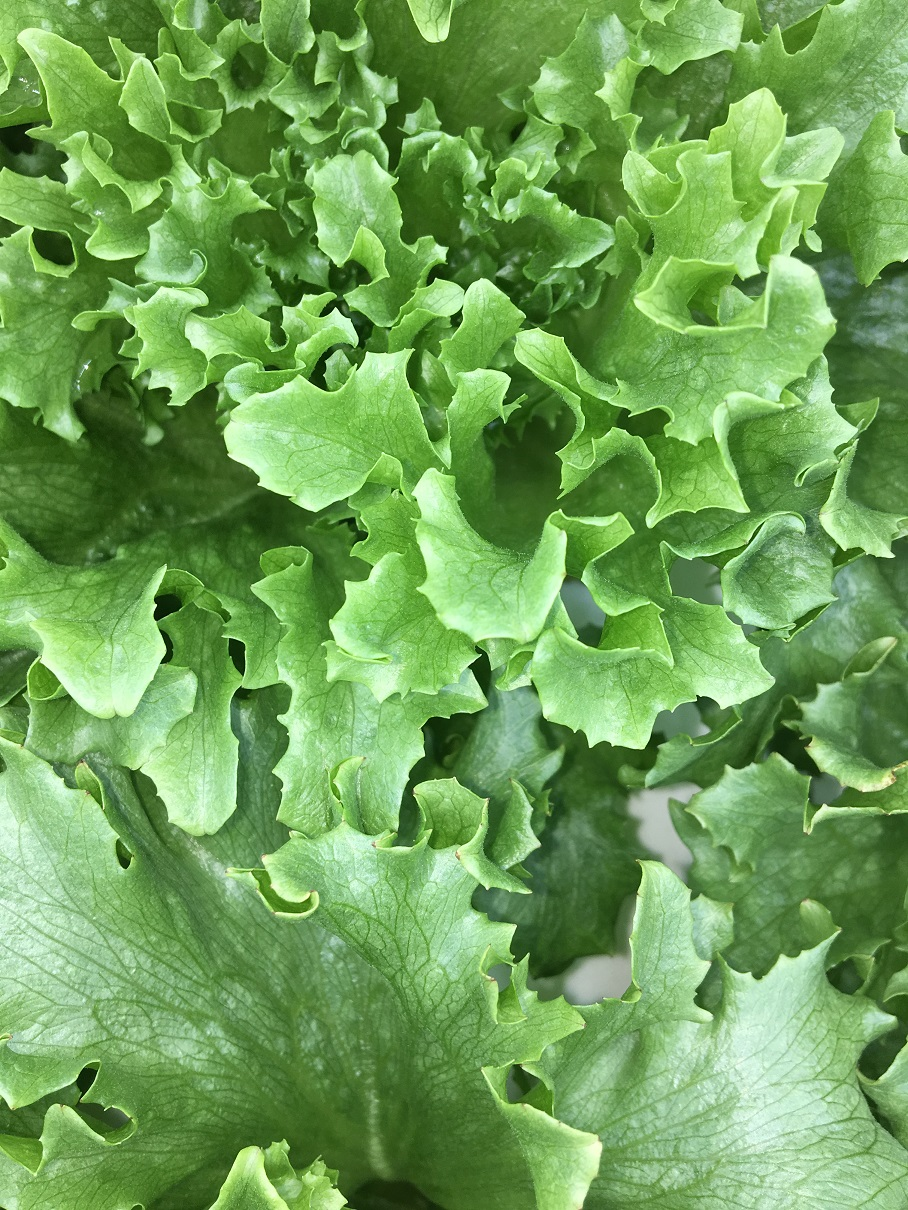tipburn: (870, 749, 908, 800), (470, 942, 511, 986), (436, 838, 478, 879), (295, 880, 337, 918), (354, 825, 392, 863), (69, 773, 105, 808), (61, 741, 95, 778), (260, 895, 294, 930), (4, 1023, 34, 1060), (790, 888, 821, 917), (350, 748, 379, 777), (793, 814, 818, 847)
